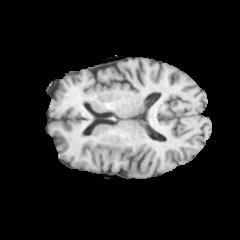glioma: (94, 140, 123, 162)
